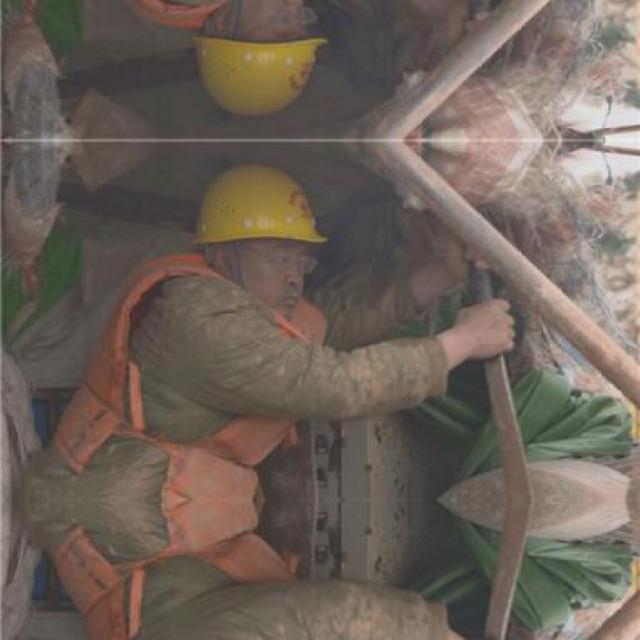helmet: (178, 156, 339, 317), (177, 0, 340, 125)
